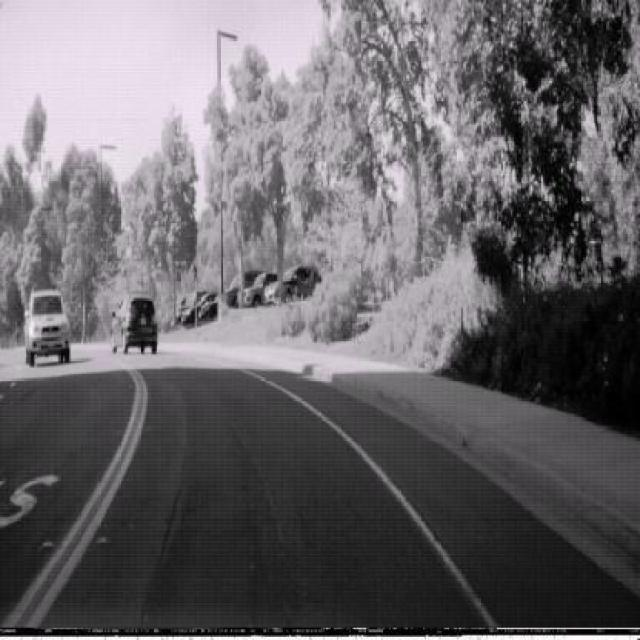pedestrianCrossing: (186, 254, 205, 291)
